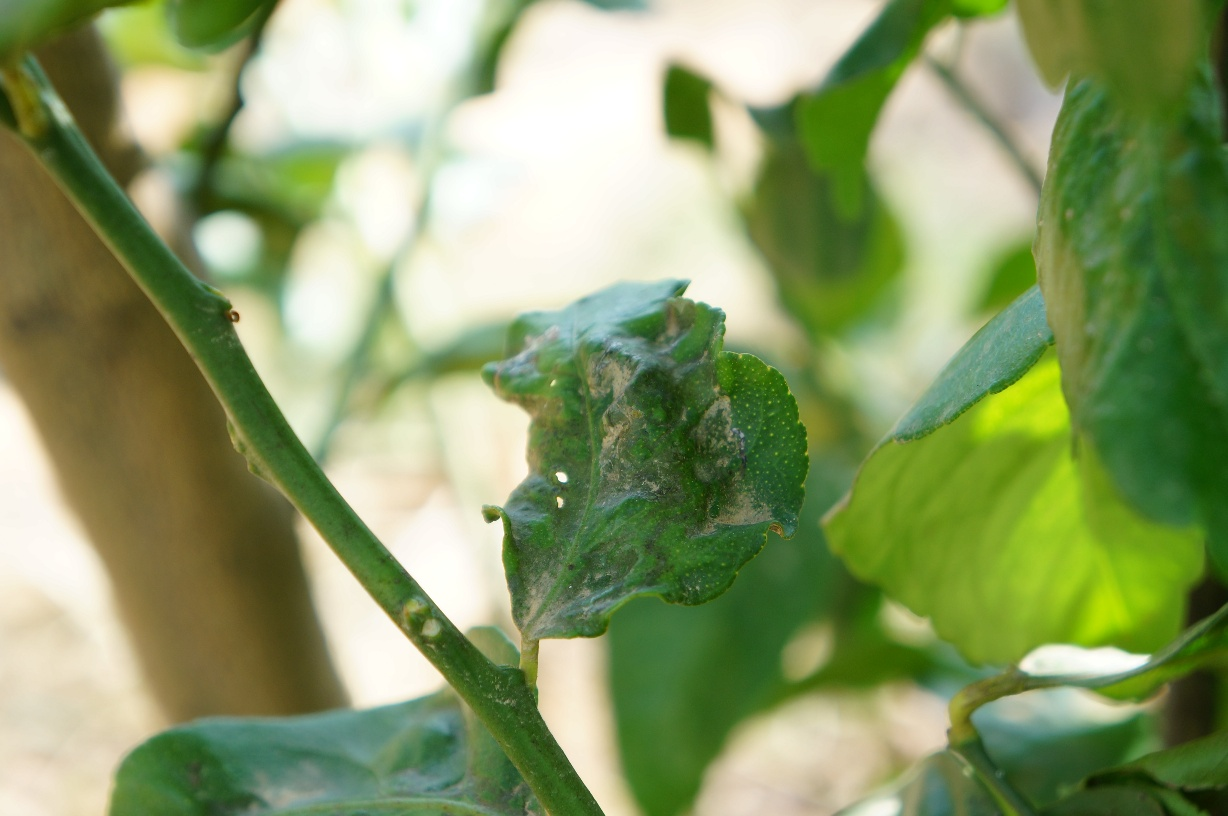damage: (455, 271, 821, 684)
